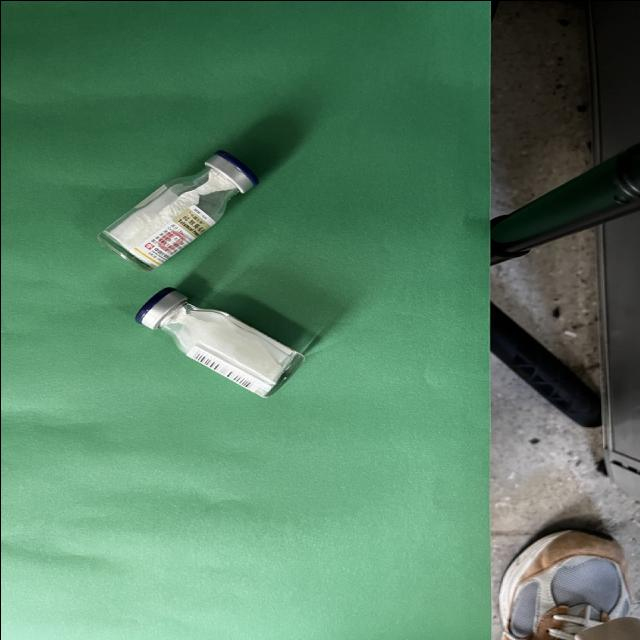Vials: (99, 150, 257, 270), (135, 286, 304, 396)
